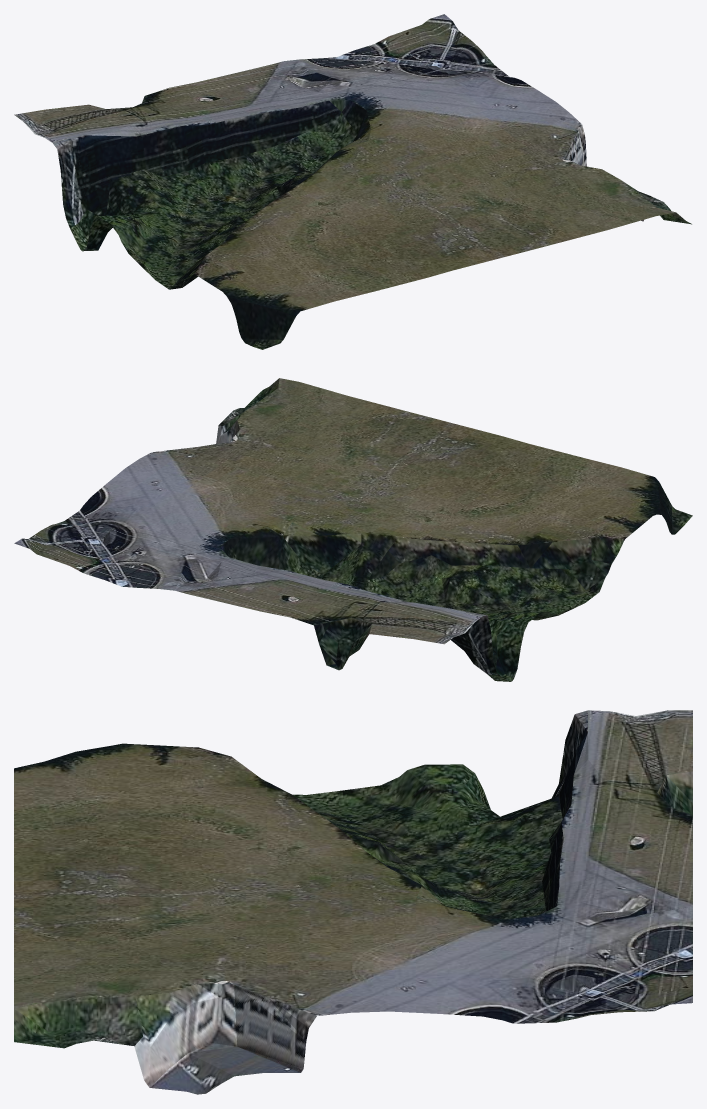
Rendered from map_15_8182_13777.dae.
3 renders of one model, top to bottom at view 1: azimuth 30°, elevation 25°; view 2: azimuth 150°, elevation 25°; view 3: azimuth 270°, elevation 25°, orthographic. The views are drawn at different scales.
Visible parts, largest first — view 1: Ter0; view 2: Ter0; view 3: Ter0.
Part boxes in pixels (left/top/right/bottom): Ter0: left=14, top=14, right=691, bottom=349; Ter0: left=14, top=378, right=692, bottom=681; Ter0: left=14, top=710, right=692, bottom=1094.
Bounding box in the file's own units: 63.88 × 63.88 × 12.44.
2 materials, 2 textured.
